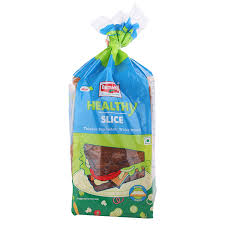bread: (62, 6, 162, 214)
